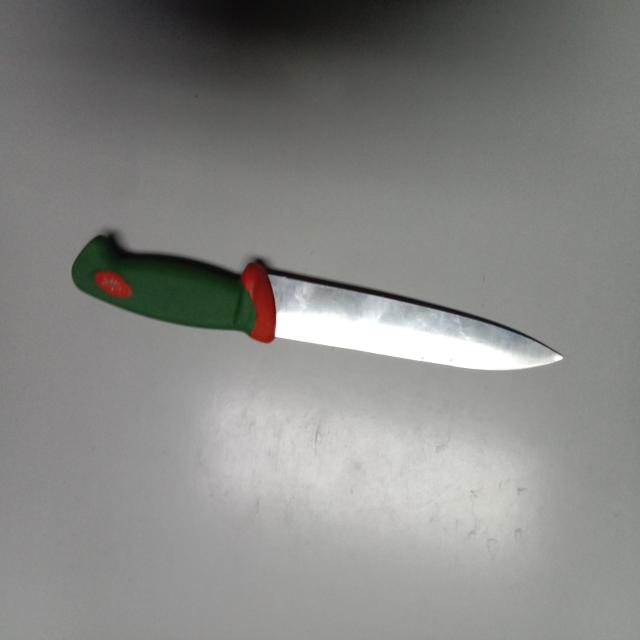Knife: (71, 235, 563, 370)
